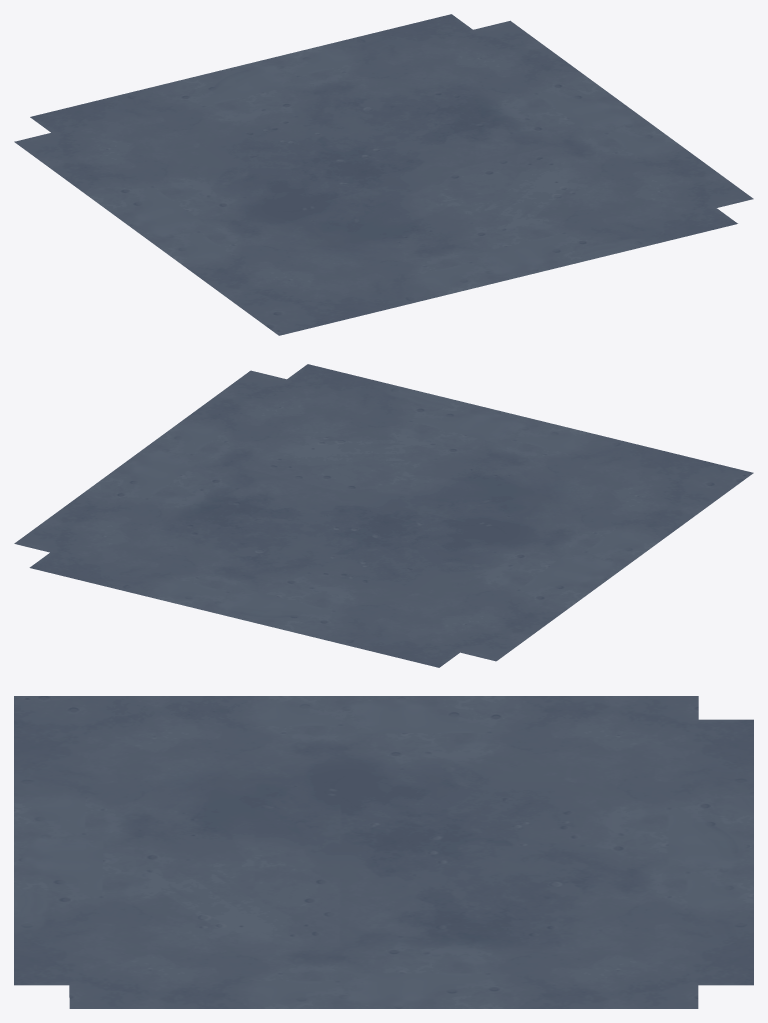
File: dungeon_ground_corner3.FBX
The picture shows the model from 3 angles, top to bottom: view 1: azimuth 30°, elevation 25°; view 2: azimuth 150°, elevation 25°; view 3: azimuth 270°, elevation 25°; orthographic projection. The views are drawn at different scales.
Visible parts, largest first — view 1: Object126; view 2: Object126; view 3: Object126.
Part boxes in pixels (<box>): Object126: <box>14,14,753,335</box>; Object126: <box>14,364,753,667</box>; Object126: <box>14,696,753,1008</box>.
Size of the model in its own units: 1000 by 6.12e-14 by 1000.
1 material, 1 textured.
